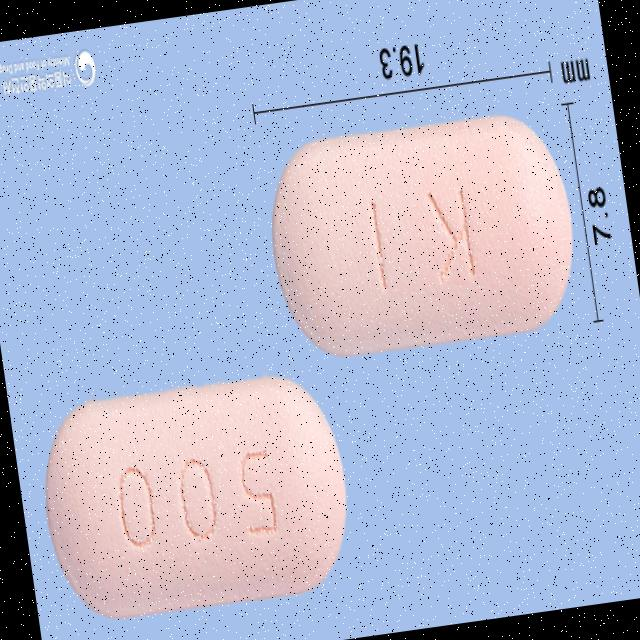Levogun -250mg: (258, 102, 587, 368), (32, 369, 360, 630)
